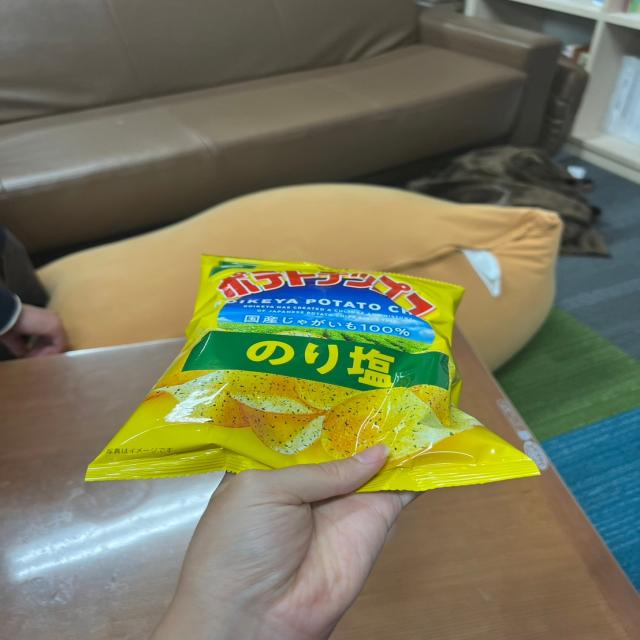chips-nori: (97, 266, 490, 469)
